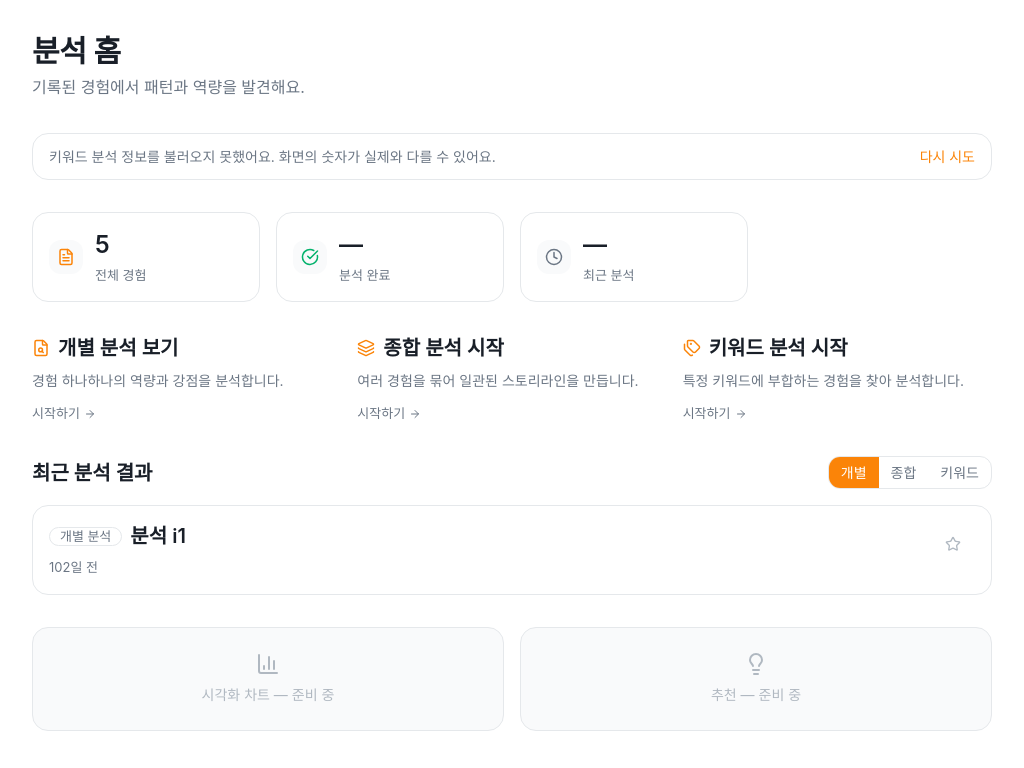
Scenario: 분석 홈 — 부분 실패 안내 (FRT-169) › 실패하지 않은 유형이 정말 비어 있으면 기존 빈 상태를 그대로 보여준다
The width and height of the screenshot is (1024, 768).
Step 1. Click the tab "종합" → (904, 473), box [879, 457, 928, 488]
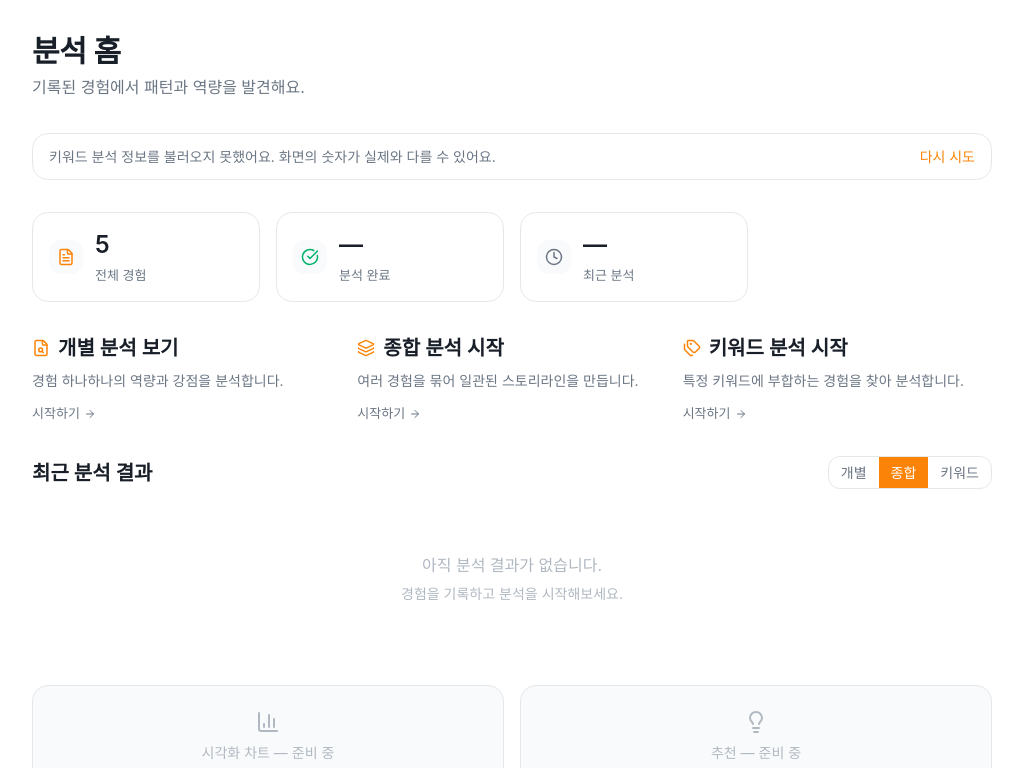
Expected: the text "아직 분석 결과가 없습니다." is shown, [422, 556, 602, 576]
